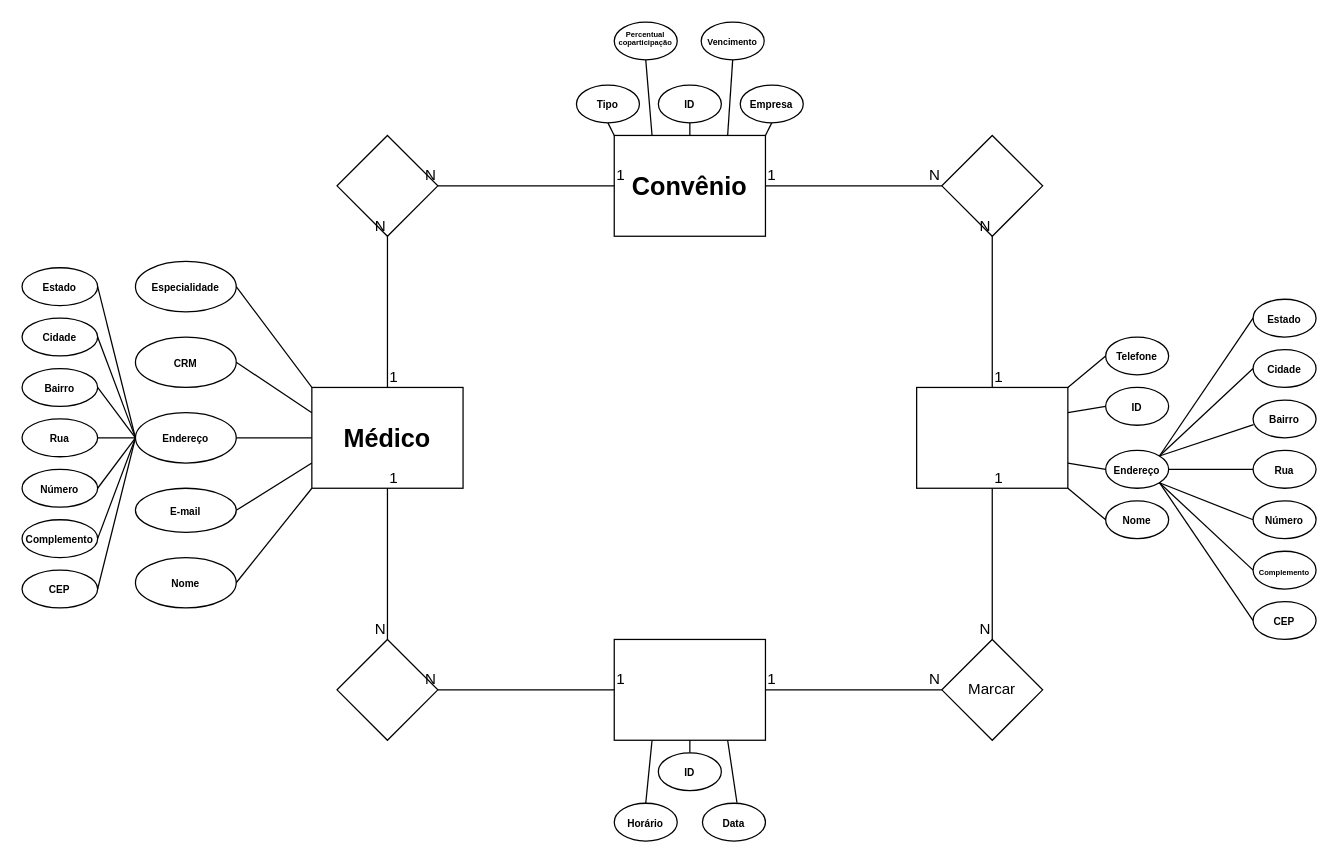
Some shapes in this 1338 by 863 pixel diagram are drawn without their labels. The centre of each missing label's shape, as x and y in pixels:
"Consulta" belongs at (689,689).
"Paciente" belongs at (991,437).
"Pode atender" belongs at (387,185).
"Pode possuir" belongs at (992,185).
"Realizar" belongs at (387,689).
